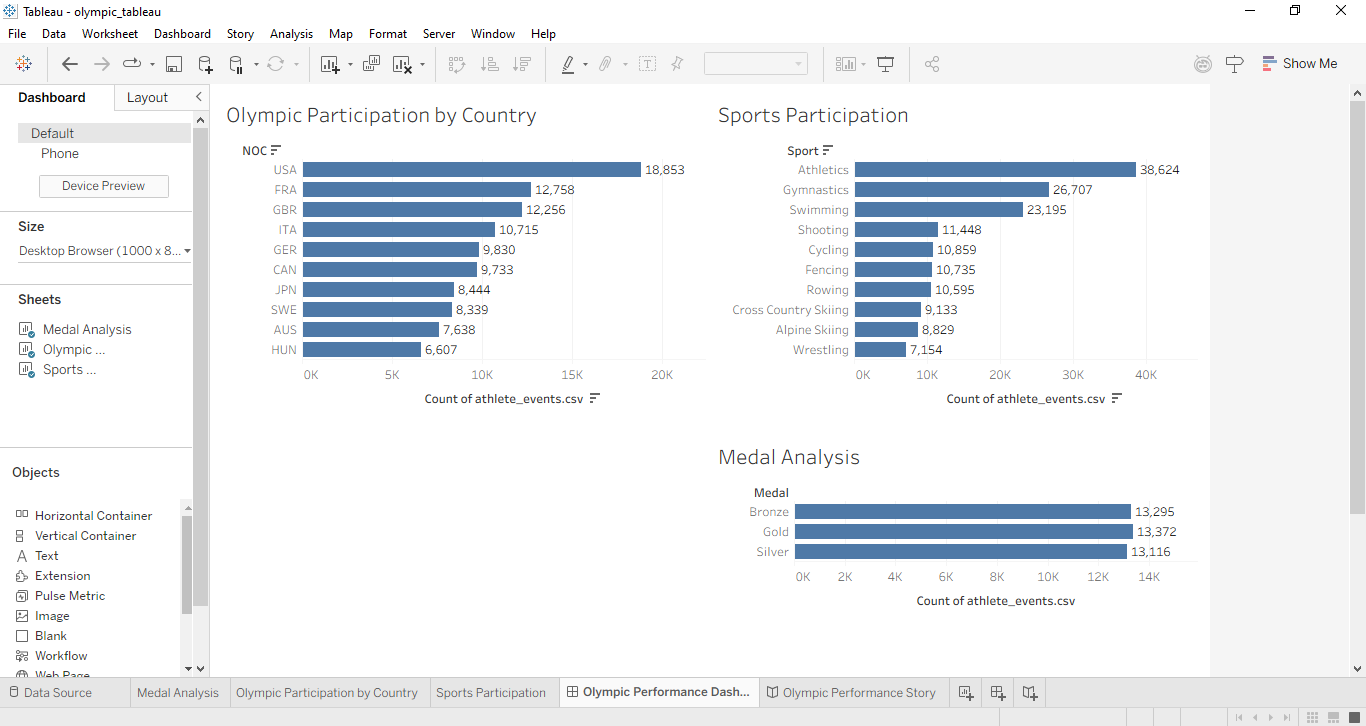

This screenshot's page, from the dashboard's own definition file:
{"tool":"tableau","page":{"name":"Olympic Performance Dashboard","canvas":[1000,800],"ordinal":0},"visuals":[{"type":"worksheet","title":"Olympic Participation by Country","mark":"Automatic","rows":["NOC"],"cols":["athlete_events.csv_75F838FA17C04E86A5EF761BC80F8F39"],"box":[8,8,492,784]},{"type":"worksheet","title":"Sports Participation","mark":"Automatic","rows":["Sport"],"cols":["athlete_events.csv_75F838FA17C04E86A5EF761BC80F8F39"],"box":[500,8,492,342]},{"type":"worksheet","title":"Medal Analysis","mark":"Automatic","rows":["Medal"],"cols":["athlete_events.csv_75F838FA17C04E86A5EF761BC80F8F39"],"box":[500,350,492,442]}]}

Visuals, with their boxes on the page's 1000x800 design canvas (x1, y1, x2, y2). These are canvas units, not pixel positions in the 1366x726 screenshot, which may show the page scaled, cropped or inside an application window:
"Olympic Participation by Country" worksheet: select_region(8, 8, 500, 792)
"Sports Participation" worksheet: select_region(500, 8, 992, 350)
"Medal Analysis" worksheet: select_region(500, 350, 992, 792)
